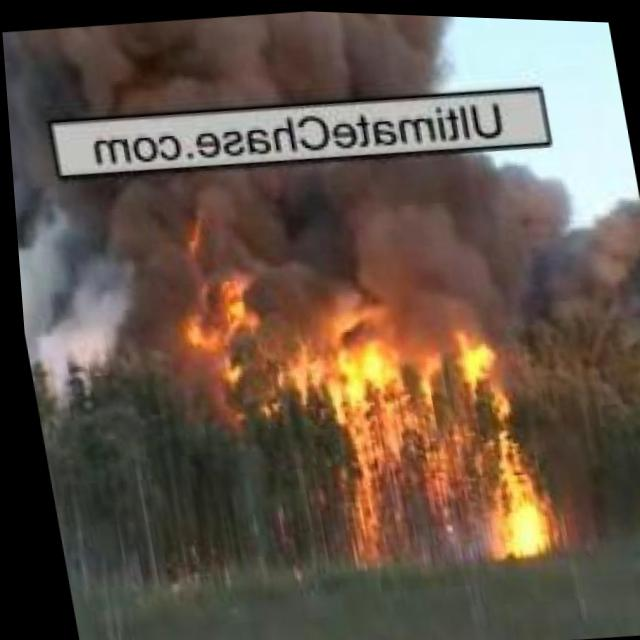Fire: (292, 305, 550, 578), (159, 220, 265, 382)
